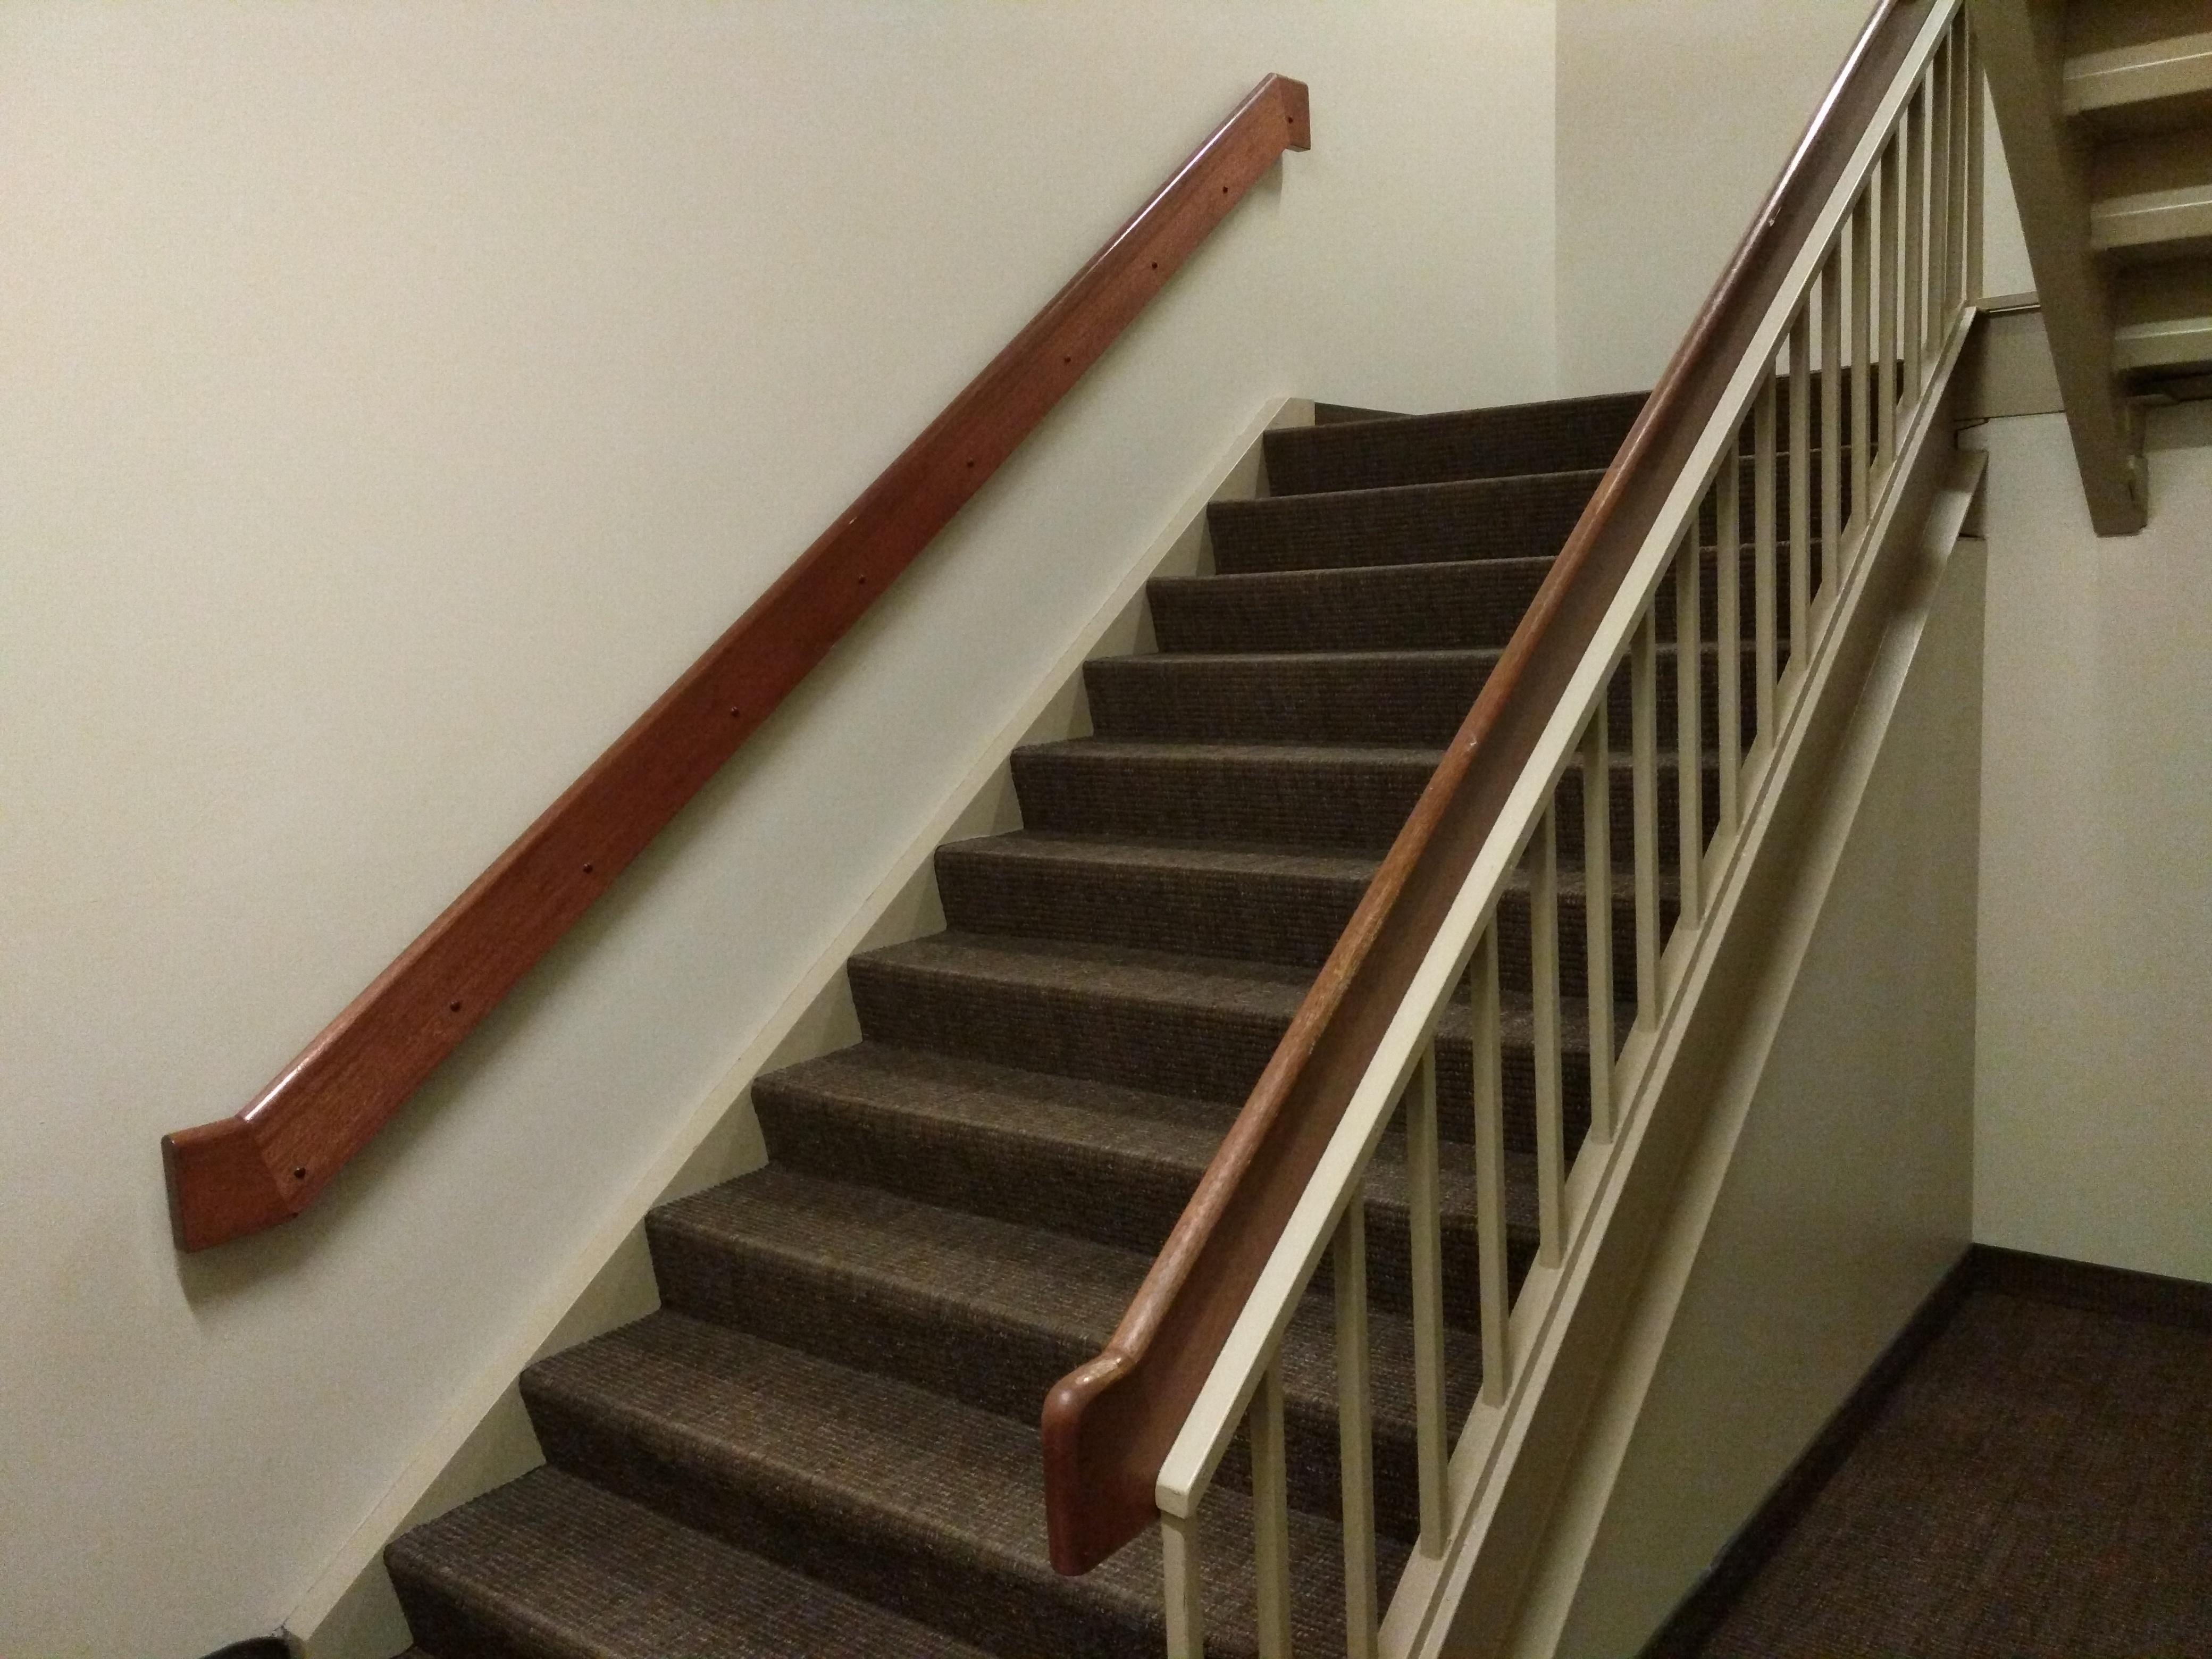stairs_up: (502, 338, 1944, 1659)
